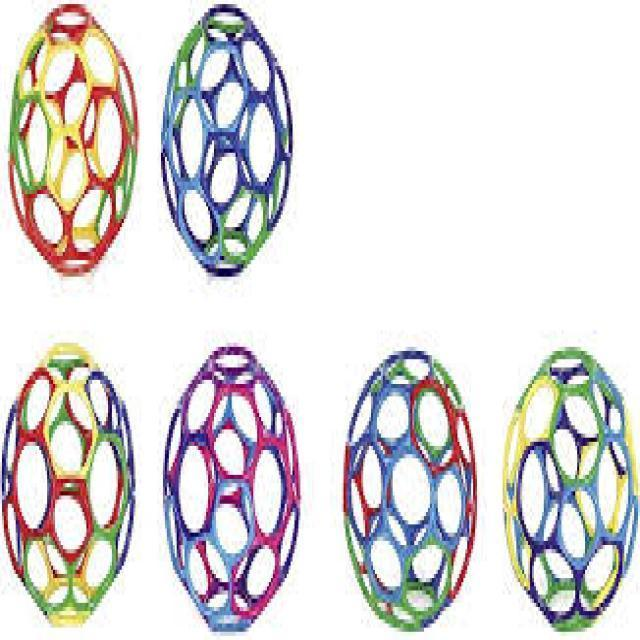hard-toy: (165, 347, 301, 632), (505, 349, 639, 630), (2, 345, 136, 625), (345, 351, 477, 630), (162, 6, 294, 276), (10, 5, 139, 275)
